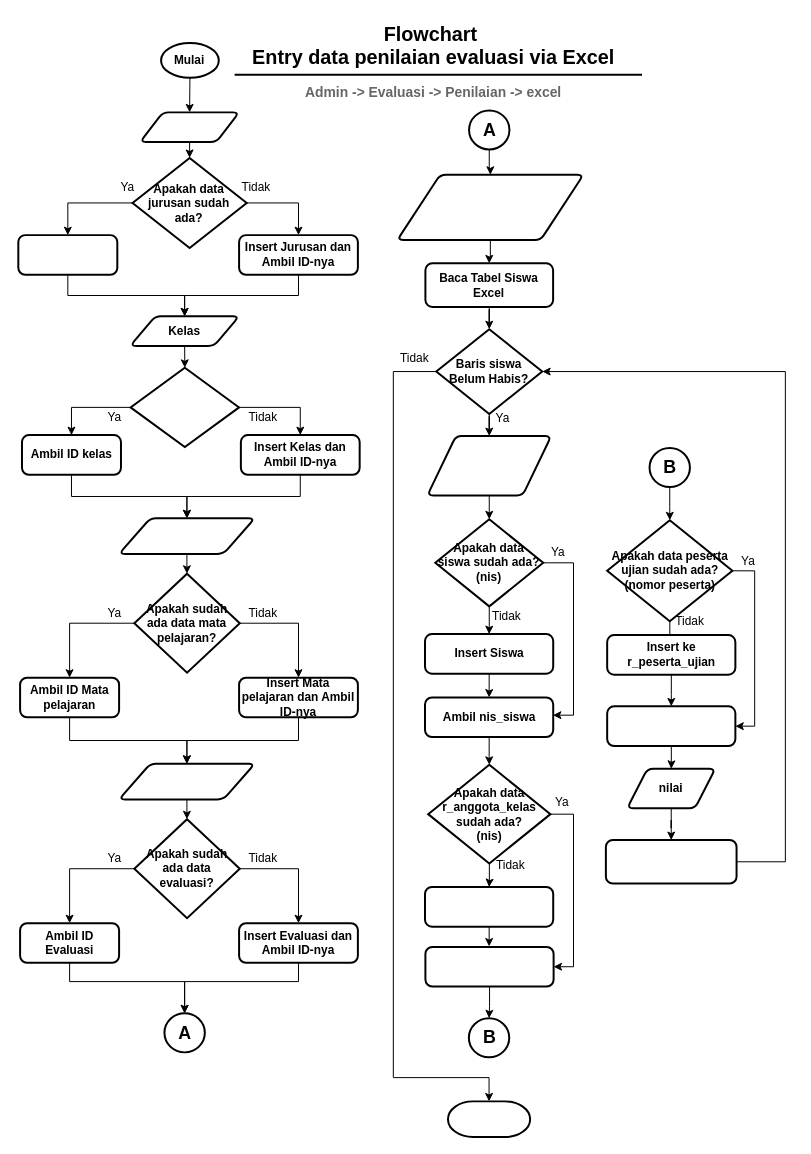
This 811x1154 diagram has some shape labels left out. Here are the shapes that lost their labels. From the top down, the box of each, then its label:
(139, 111, 240, 143): Jurusan
(396, 173, 584, 241): ID Jurusan ID Kelas ID Mata Pelajaran ID Ujian
(17, 234, 118, 275): Ambil ID Jurusan
(129, 366, 240, 447): Apakah sudah ada data kelas?
(426, 435, 552, 496): nis nama_lengkap jenis_kelamin
(118, 517, 255, 554): Mata Pelajaran
(606, 705, 736, 746): Ambil nomor_peserta
(118, 762, 255, 800): evaluasi
(604, 839, 737, 884): Insert data penilaian ke penilaian
(424, 886, 554, 927): Insert r_anggota_kelas
(424, 945, 554, 987): Ambil id_anggota_kelas
(446, 1100, 531, 1138): Selesai
